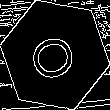O_E: (25, 26, 85, 84)
